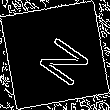N_NW: (22, 24, 88, 86)
